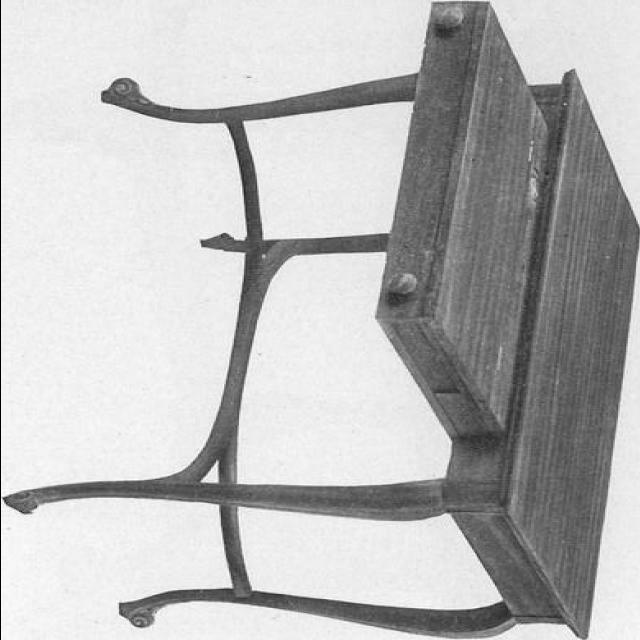table: (2, 1, 638, 640)
